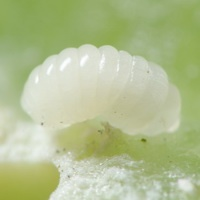insect: (21, 45, 179, 134)
